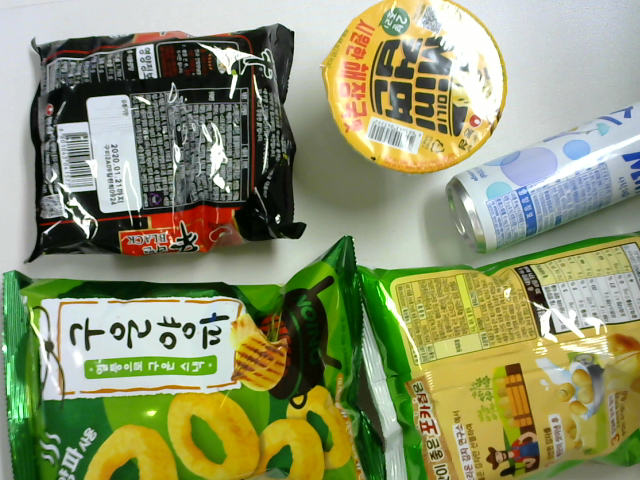Grilled_Onions: (3, 248, 381, 480)
Hejangmini: (321, 4, 503, 176)
Milkies_250ml: (449, 94, 640, 249)
Pocachip_Onion: (363, 248, 640, 475)
Sinramen_Black: (23, 20, 311, 262)
